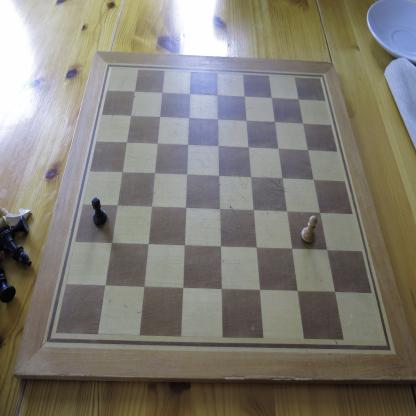black-bishop: (0, 228, 32, 266)
black-pawn: (0, 273, 17, 303), (92, 196, 108, 226)
white-bishop: (0, 206, 33, 229)
white-pawn: (301, 215, 318, 244)
